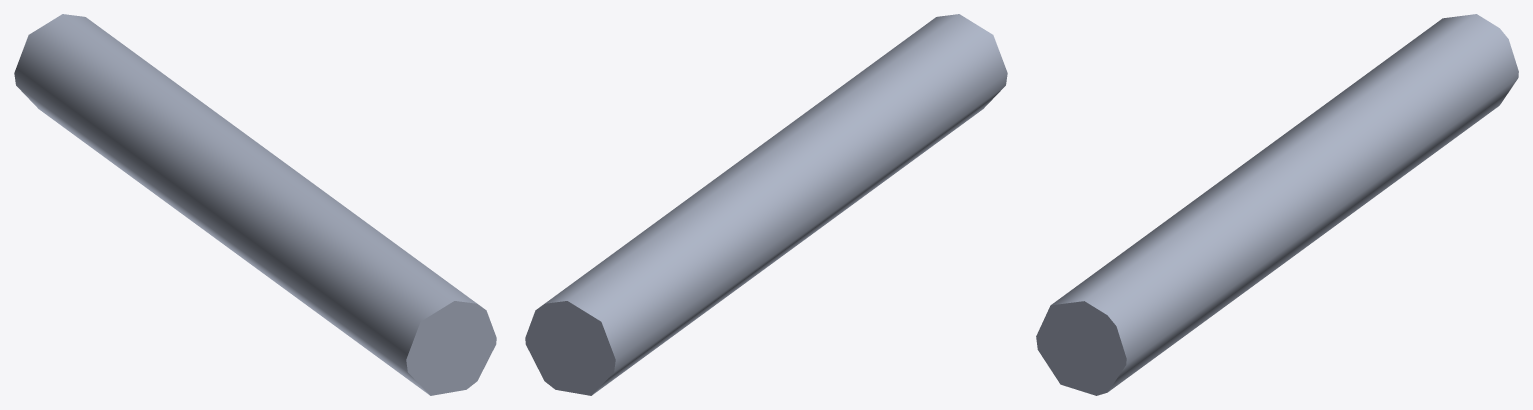
Rendered from pin2.obj.
3 views of the same model, side by side, from view 1: azimuth 30°, elevation 25°; view 2: azimuth 150°, elevation 25°; view 3: azimuth 330°, elevation 25° (orthographic).
Visible parts, largest first — view 1: mesh 1 pin2; view 2: mesh 1 pin2; view 3: mesh 1 pin2.
Boxes of the visible parts, box(x1,y1,x2,y2) form: mesh 1 pin2: box(14, 14, 496, 395); mesh 1 pin2: box(525, 14, 1007, 395); mesh 1 pin2: box(1036, 14, 1518, 395).
Bounding box in the file's own units: 0.002 × 0.00194 × 0.015.
